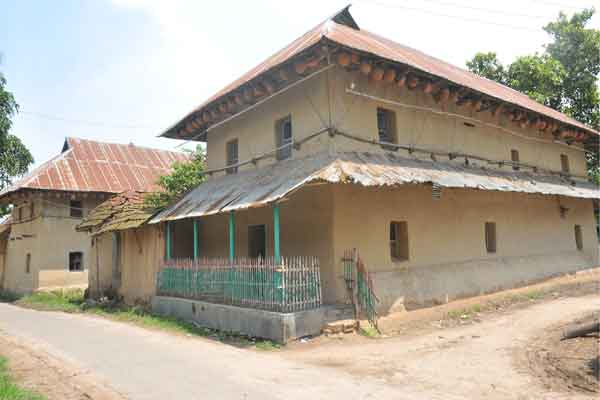Mud House: (174, 40, 593, 322), (4, 130, 173, 302)
